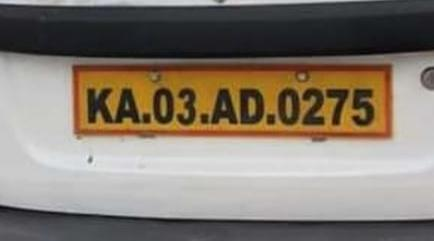0: (274, 80, 302, 127), (149, 83, 176, 129)
2: (300, 84, 328, 128)
3: (175, 82, 202, 129)
5: (351, 82, 379, 131)
7: (325, 86, 352, 129)
A: (114, 80, 144, 129), (210, 84, 240, 128)
D: (238, 85, 271, 128)
K: (82, 82, 113, 127)
